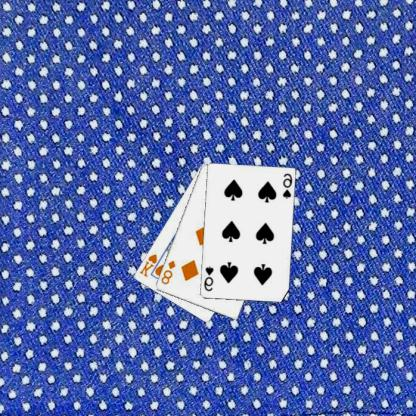6S: (203, 263, 216, 292), (282, 171, 294, 200)
8D: (160, 258, 178, 286)
KH: (138, 251, 160, 278)
